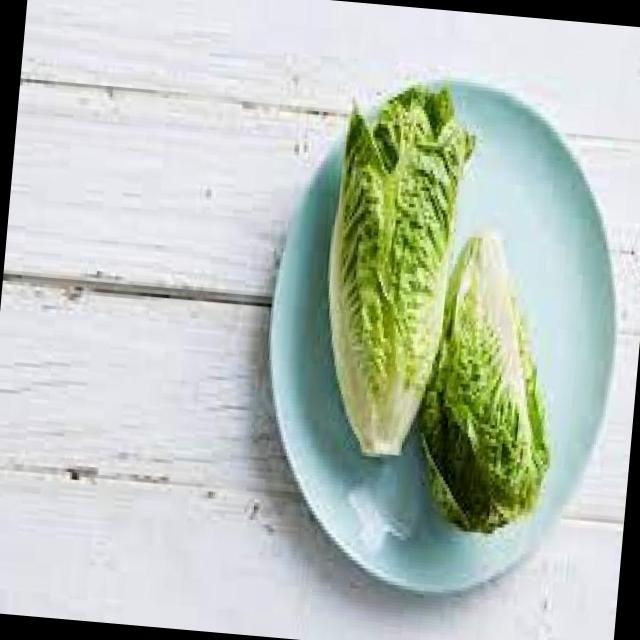Lettuce-Ready-to-Harvest: (328, 87, 474, 454), (416, 237, 550, 532)
